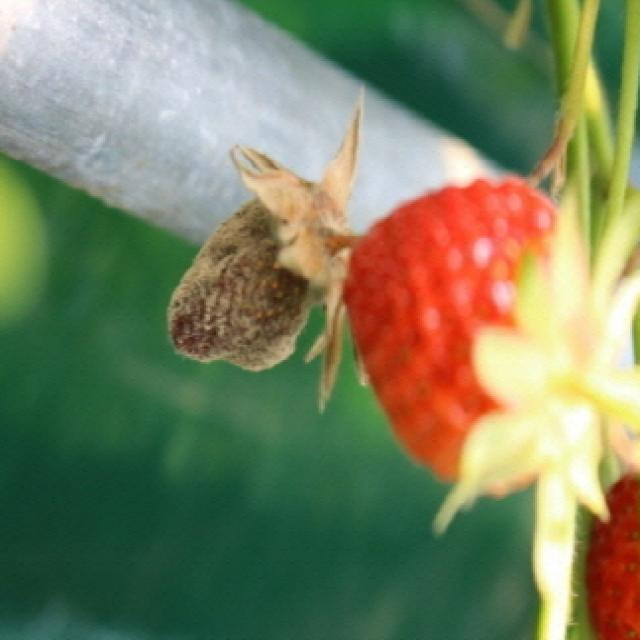Gray Mold: (166, 101, 362, 414)
